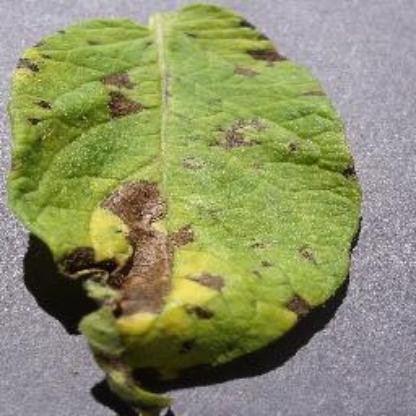Early-Blight: (8, 4, 370, 416)
